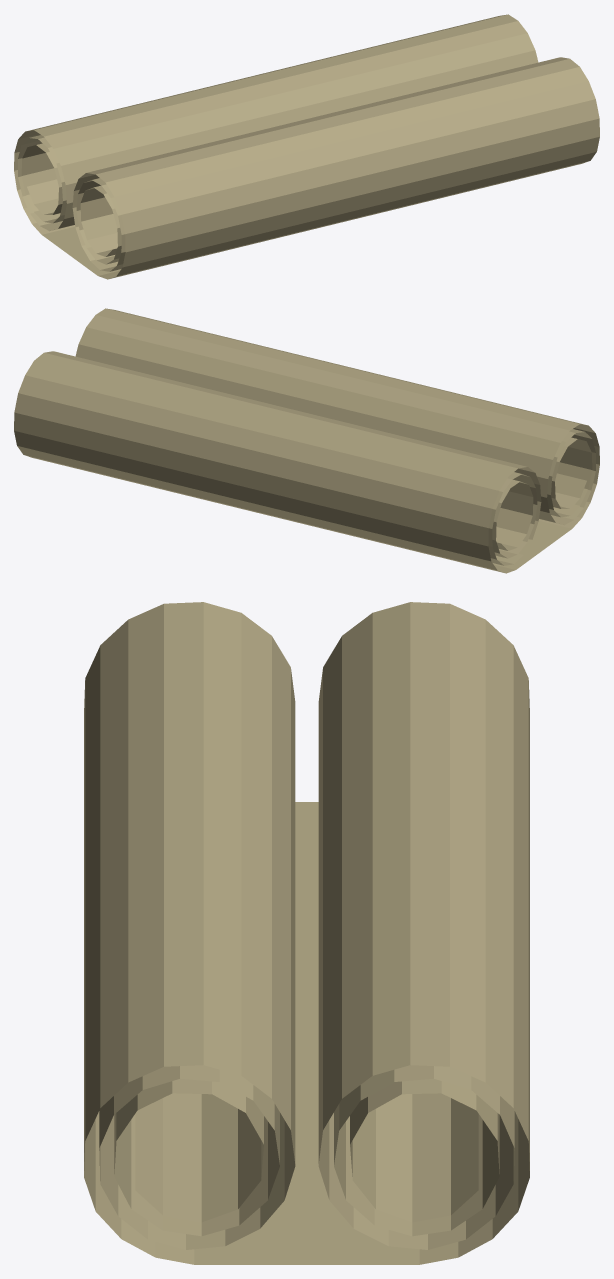
The model's file is scroll3.fbx.
3 views of the same model, one above another, from view 1: azimuth 30°, elevation 25°; view 2: azimuth 150°, elevation 25°; view 3: azimuth 270°, elevation 25° (orthographic). The views are drawn at different scales.
Parts seen in each view (by area): view 1: Plane; view 2: Plane; view 3: Plane.
Part boxes in pixels (x1=…): Plane: x1=14, y1=14, x2=599, y2=279; Plane: x1=14, y1=308, x2=599, y2=573; Plane: x1=84, y1=602, x2=529, y2=1264.
Bounding box in the file's own units: 286 × 57.57 × 117.
